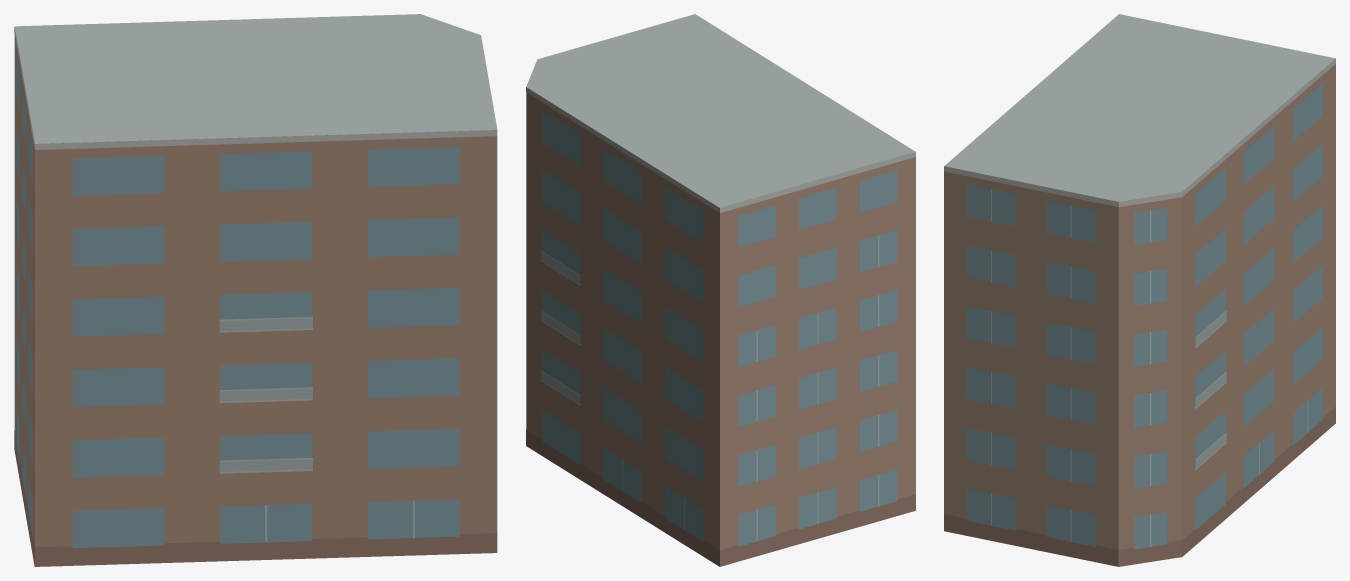
The model's file is survey-upis-32529854.glb.
3 renders of one model, left to right at view 1: azimuth 30°, elevation 25°; view 2: azimuth 150°, elevation 25°; view 3: azimuth 270°, elevation 25°, orthographic. The views are drawn at different scales.
Parts seen in each view (by area): view 1: survey-upis-32529854.tmp; view 2: survey-upis-32529854.tmp; view 3: survey-upis-32529854.tmp.
Boxes of the visible parts, x1,y1,x2,y2 form: survey-upis-32529854.tmp: (14, 14, 497, 566); survey-upis-32529854.tmp: (526, 14, 915, 566); survey-upis-32529854.tmp: (944, 14, 1335, 566).
Size of the model in its own units: 18.56 by 16.8 by 16.35.
